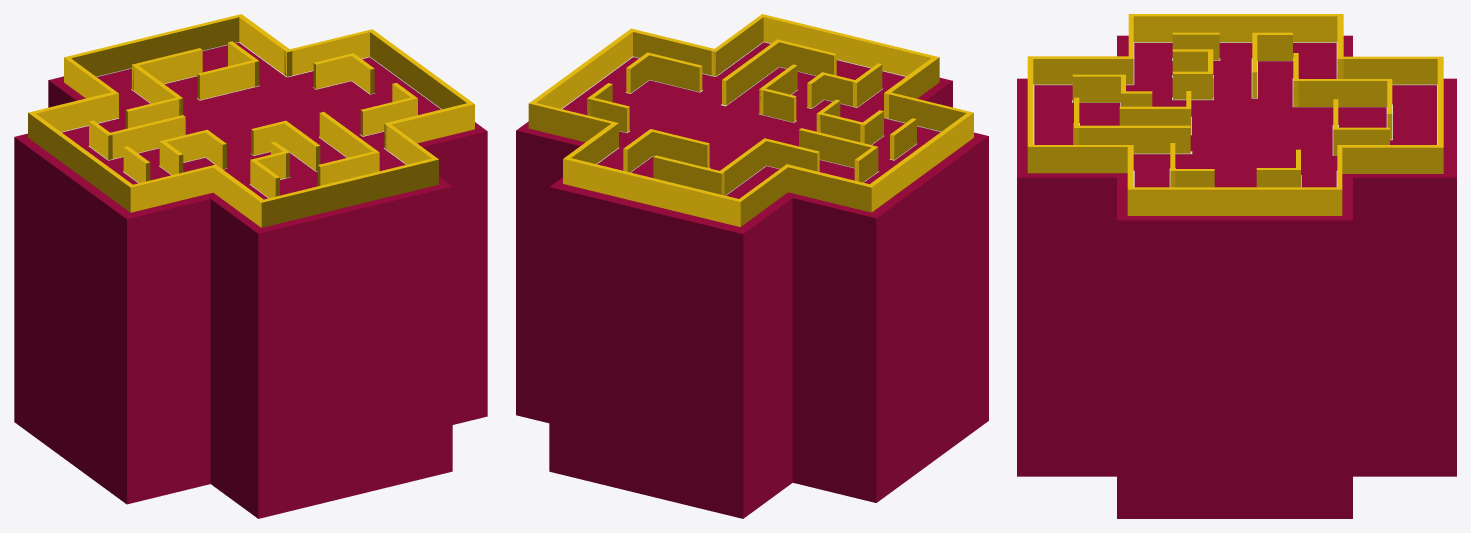
File: Level_16.FBX
3 views of the same model, side by side, from view 1: azimuth 30°, elevation 25°; view 2: azimuth 150°, elevation 25°; view 3: azimuth 270°, elevation 25° (orthographic). The views are drawn at different scales.
Visible parts, largest first — view 1: Level_16; view 2: Level_16; view 3: Level_16.
Boxes of the visible parts, bbox=[...] form: Level_16: bbox=[14, 14, 487, 518]; Level_16: bbox=[516, 14, 988, 518]; Level_16: bbox=[1017, 14, 1456, 518].
Bounding box in the file's own units: 274 × 225 × 276.
